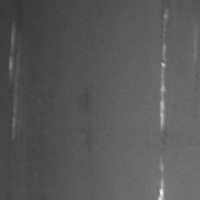inclusion: (79, 83, 95, 116)
scratches: (6, 19, 23, 139), (157, 12, 173, 132), (155, 157, 169, 199)
